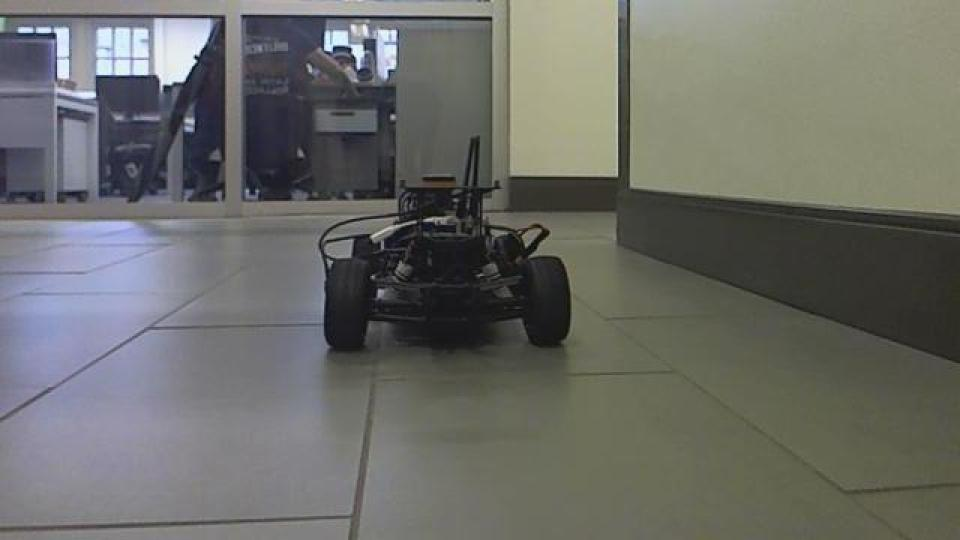car: (314, 134, 574, 354)
